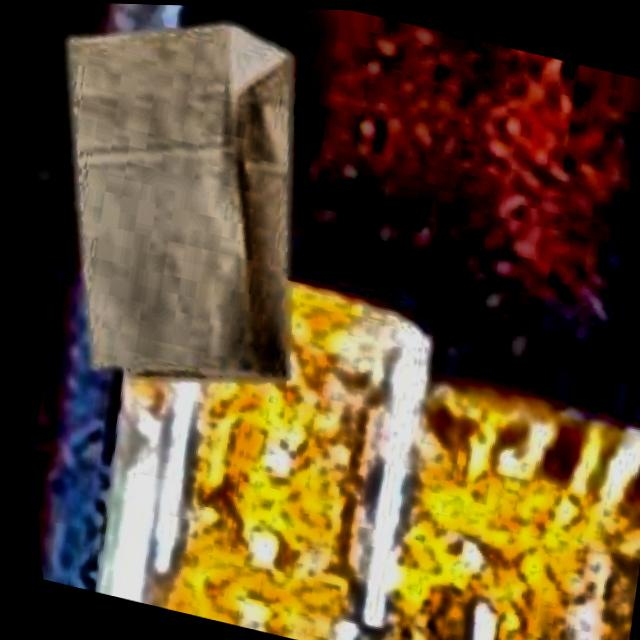Paper-bag: (0, 0, 363, 428)
